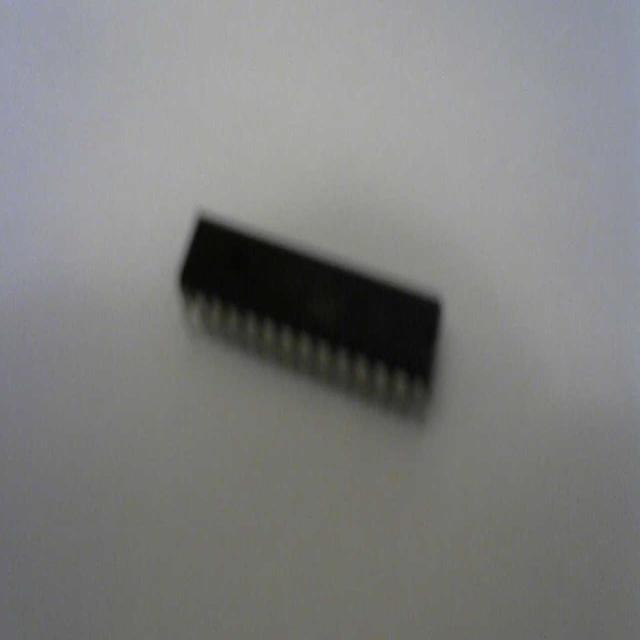atmega: (176, 207, 444, 424)
